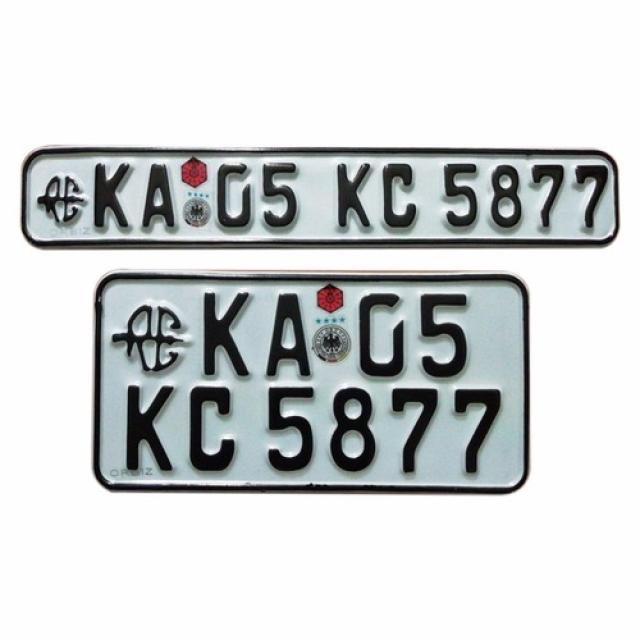license_plate: (91, 273, 531, 495), (20, 143, 621, 253)
